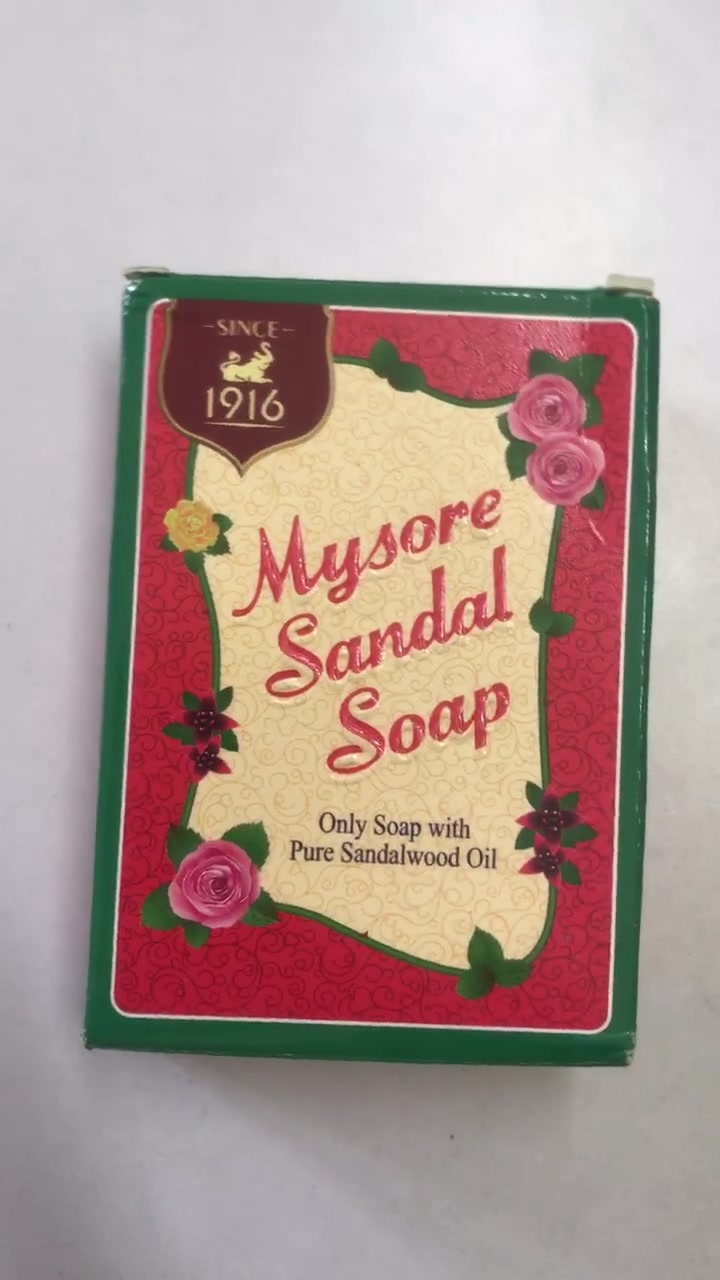mysore sandal soap: (105, 273, 634, 1066)
